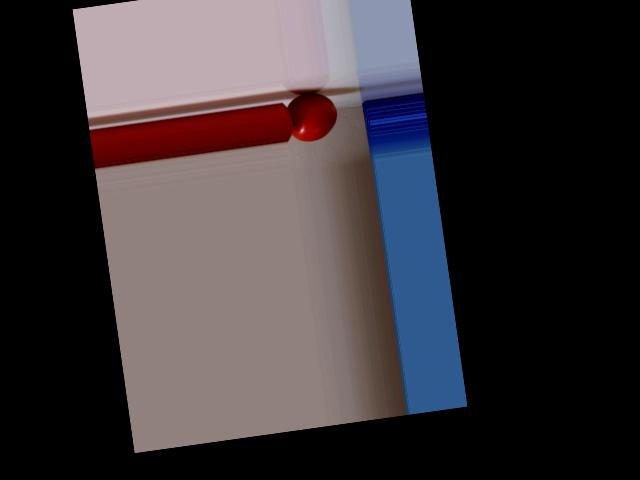tomato: (287, 89, 340, 143)
